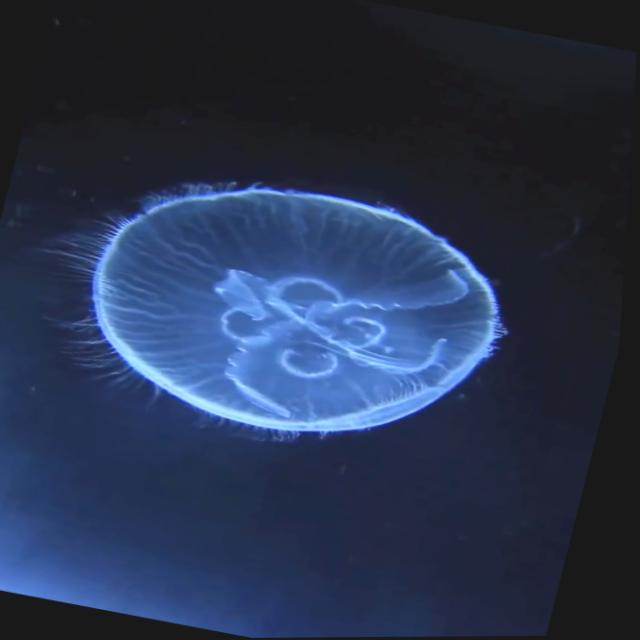Moon-jellyfish: (96, 183, 511, 435)
